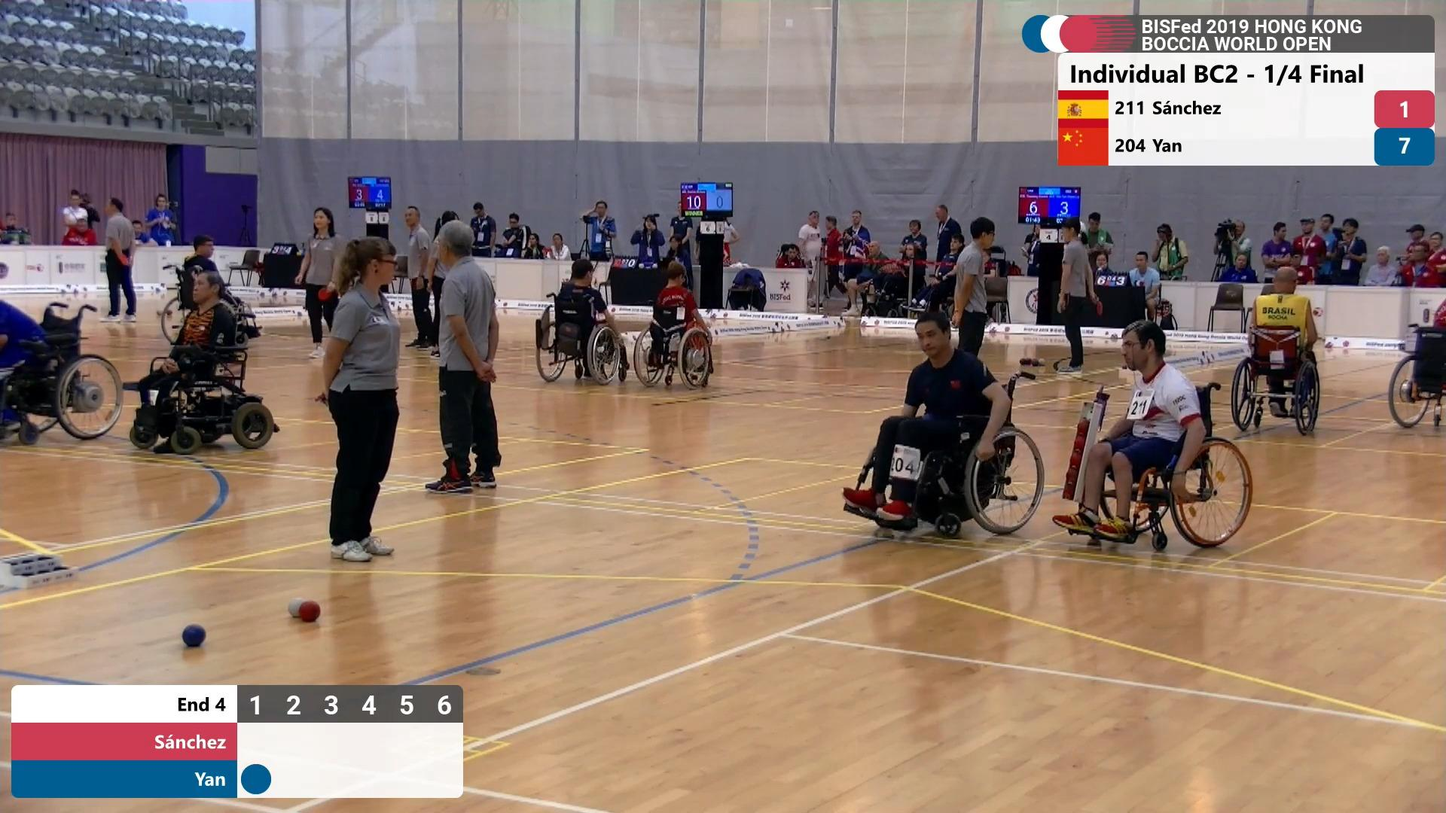blue_ball: (179, 620, 208, 650)
red_ball: (298, 600, 322, 624)
white_ball: (287, 597, 307, 619)
